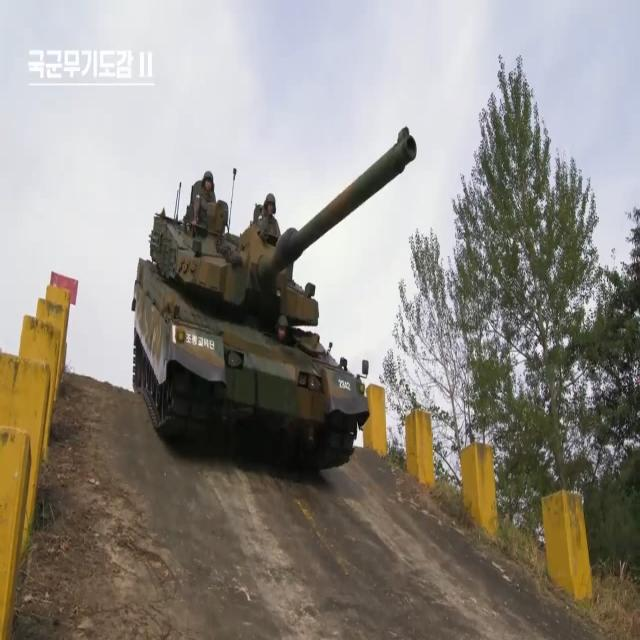korea tank: (130, 125, 418, 475)
